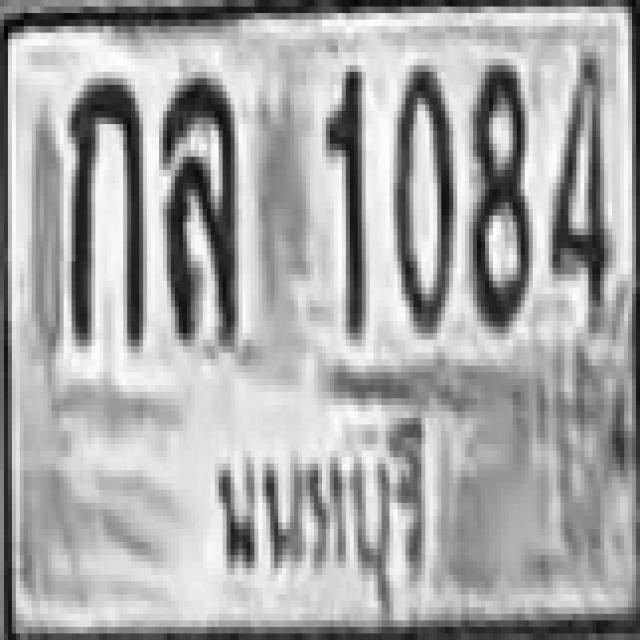0: (390, 58, 449, 326)
1: (322, 62, 362, 336)
10GorGai: (66, 72, 141, 340)
4: (549, 46, 604, 307)
45LorLing: (159, 72, 235, 346)
8: (467, 59, 527, 320)
